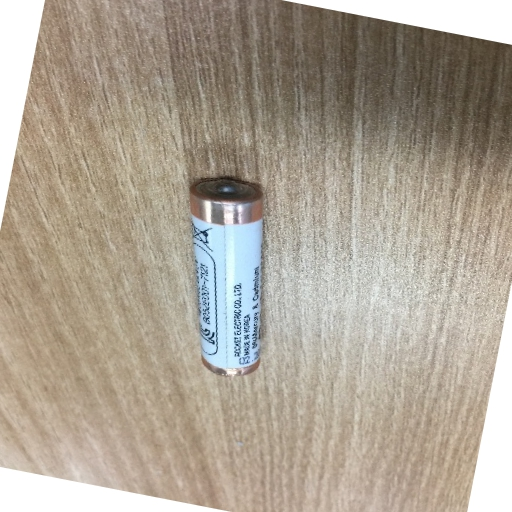Battery_0: (182, 167, 275, 382)
